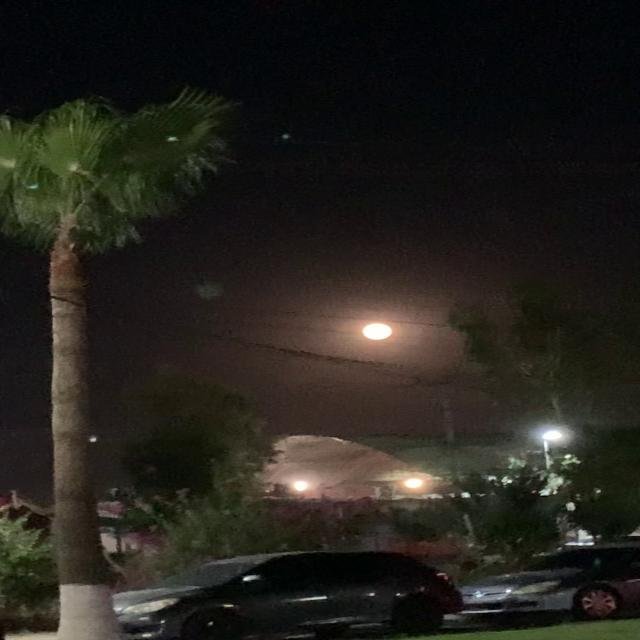moon: (360, 317, 412, 343)
